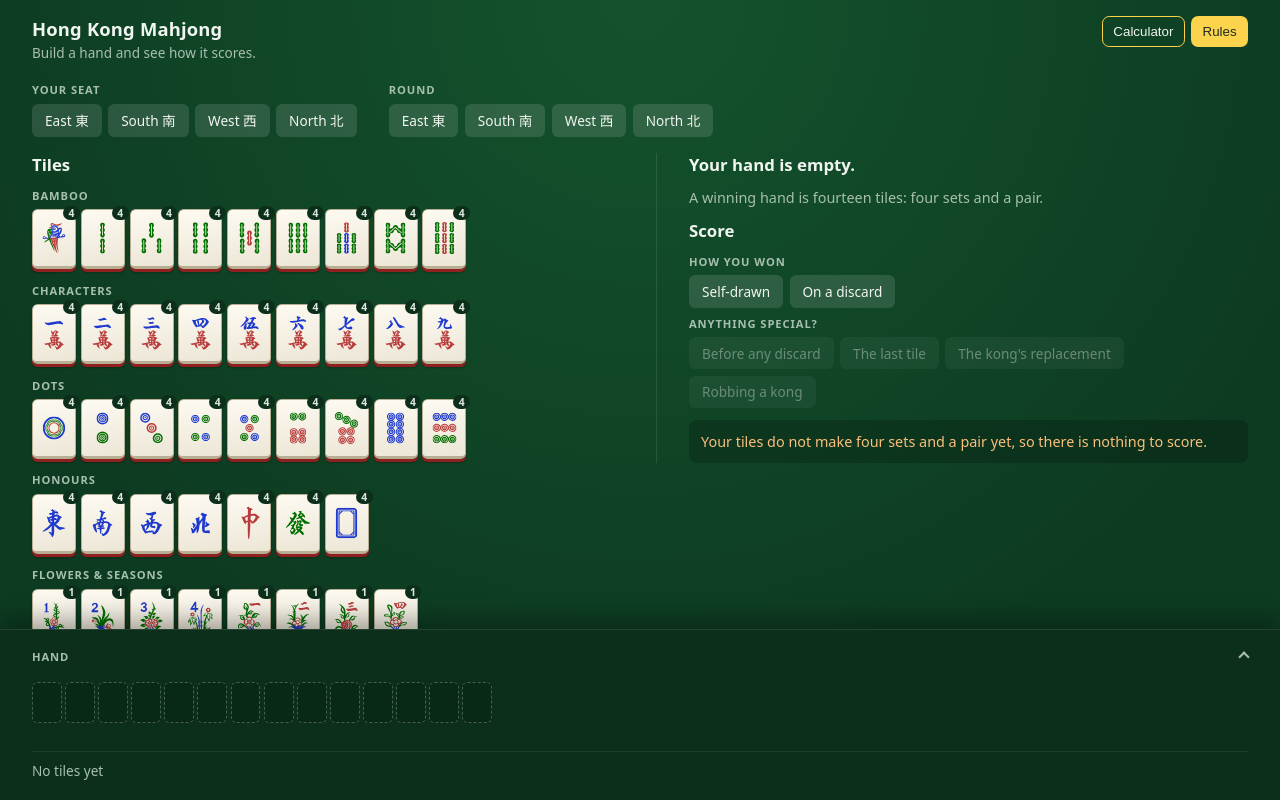
Test: collapsing the tray › keeps the page summary available when the hand drawer is collapsed
Check: the heading "Score" is shown, box [689, 219, 734, 242]
Check: the text "Your hand is empty." is shown, box [689, 153, 855, 176]
Click the button "Hand".
click(51, 656)  # box [32, 646, 1248, 666]
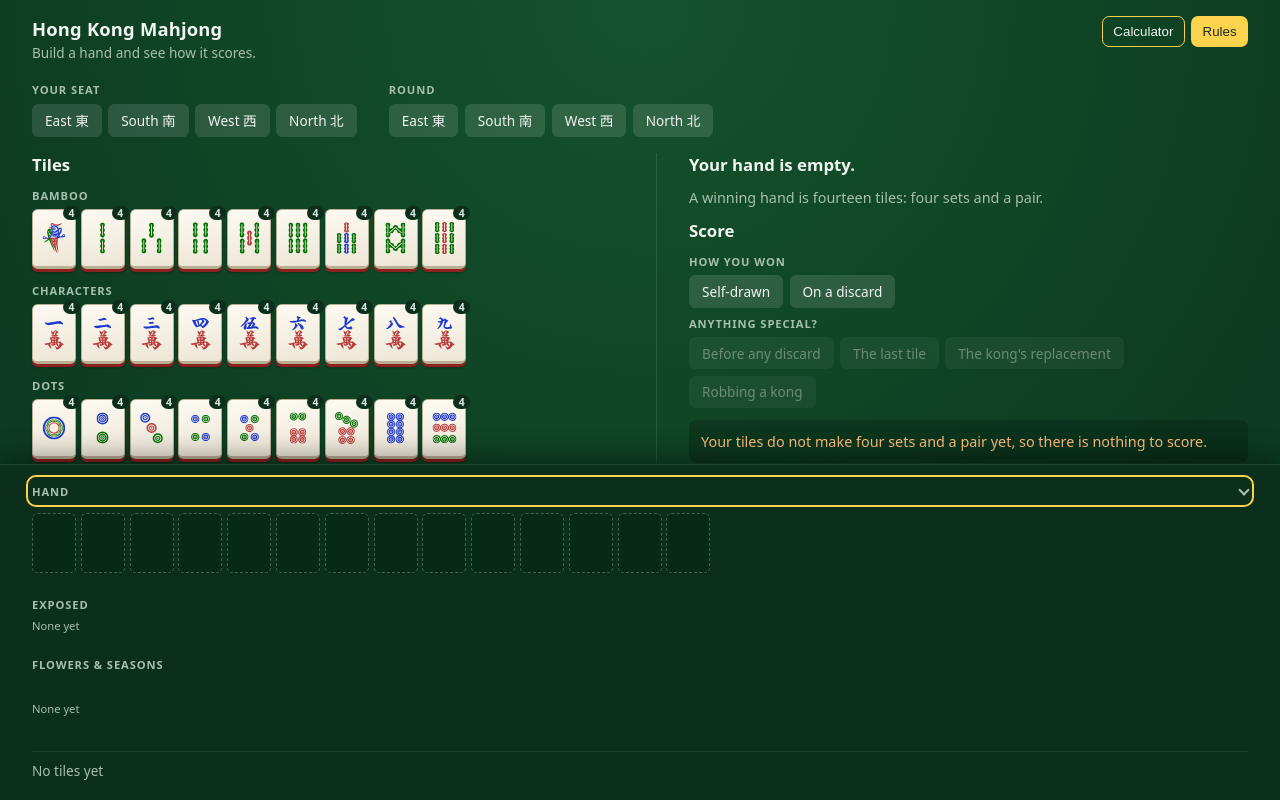
Check: the heading "Score" is shown, box [689, 219, 734, 242]
Check: the button "Hand" is expanded, box [32, 481, 1248, 501]
